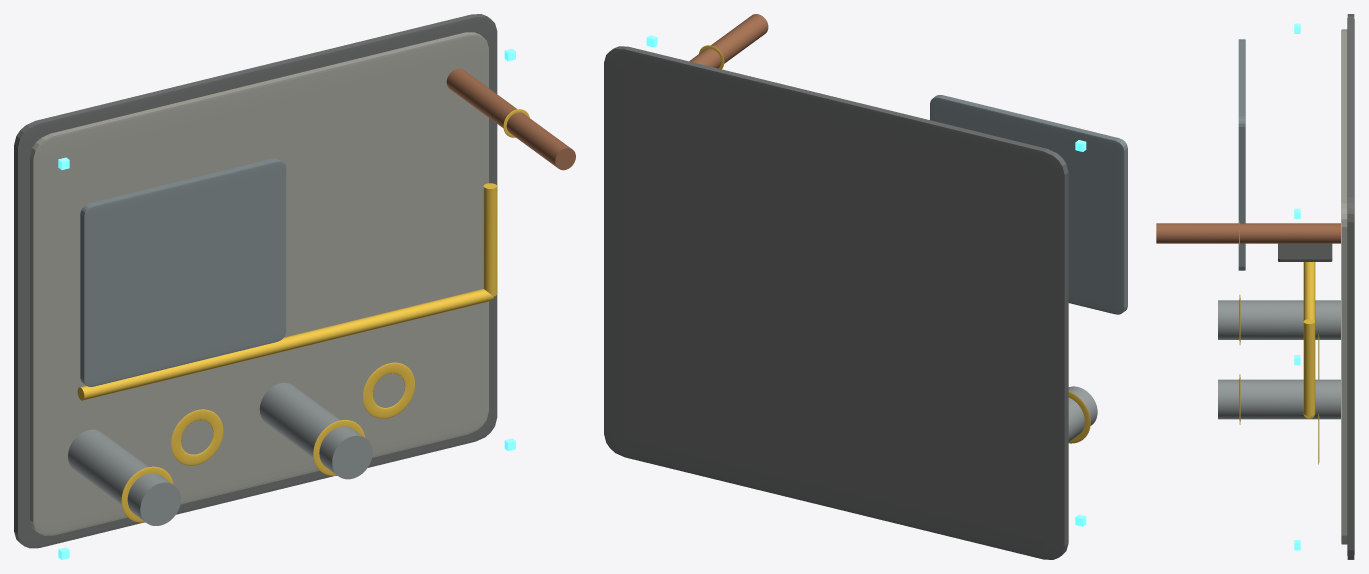
File: b-12-gas-pump-lod2.glb
3 renders of one model, left to right at view 1: azimuth 30°, elevation 25°; view 2: azimuth 150°, elevation 25°; view 3: azimuth 270°, elevation 25°, orthographic. The views are drawn at different scales.
Parts seen in each view (by area): view 1: foundation_inner_pad, gas_compressor_hall_roof, foundation, gas_header_segment_1, separator_0_vessel, separator_2_vessel, gas_flare_stack, gas_header_segment_2, separator_1_ring_low, separator_3_ring_low; view 2: foundation, gas_compressor_hall_roof, gas_flare_stack, separator_0_vessel; view 3: separator_2_vessel, separator_0_vessel, foundation, gas_flare_stack, foundation_inner_pad, gas_compressor_hall_roof, gas_header_segment_2, gas_compressor_hall_door_1, gas_header_segment_1.
Boxes of the visible parts, bbox=[...] form: foundation_inner_pad: bbox=[30, 32, 488, 535]; gas_compressor_hall_roof: bbox=[80, 158, 286, 386]; foundation: bbox=[14, 14, 497, 548]; gas_header_segment_1: bbox=[77, 289, 493, 400]; separator_0_vessel: bbox=[68, 429, 180, 525]; separator_2_vessel: bbox=[259, 382, 372, 479]; gas_flare_stack: bbox=[446, 68, 575, 170]; gas_header_segment_2: bbox=[483, 183, 496, 296]; separator_1_ring_low: bbox=[171, 409, 223, 465]; separator_3_ring_low: bbox=[363, 362, 414, 418]; foundation: bbox=[604, 46, 1068, 559]; gas_compressor_hall_roof: bbox=[930, 95, 1127, 314]; gas_flare_stack: bbox=[689, 14, 768, 68]; separator_0_vessel: bbox=[1068, 386, 1097, 441]; separator_2_vessel: bbox=[1218, 379, 1340, 419]; separator_0_vessel: bbox=[1218, 300, 1340, 339]; foundation: bbox=[1347, 14, 1354, 559]; gas_flare_stack: bbox=[1156, 223, 1340, 243]; foundation_inner_pad: bbox=[1341, 29, 1347, 544]; gas_compressor_hall_roof: bbox=[1238, 39, 1245, 270]; gas_header_segment_2: bbox=[1303, 319, 1315, 415]; gas_compressor_hall_door_1: bbox=[1278, 243, 1332, 261]; gas_header_segment_1: bbox=[1303, 262, 1315, 418].
Size of what is drawn, in the model's own units: 13 by 11 by 5.48.
